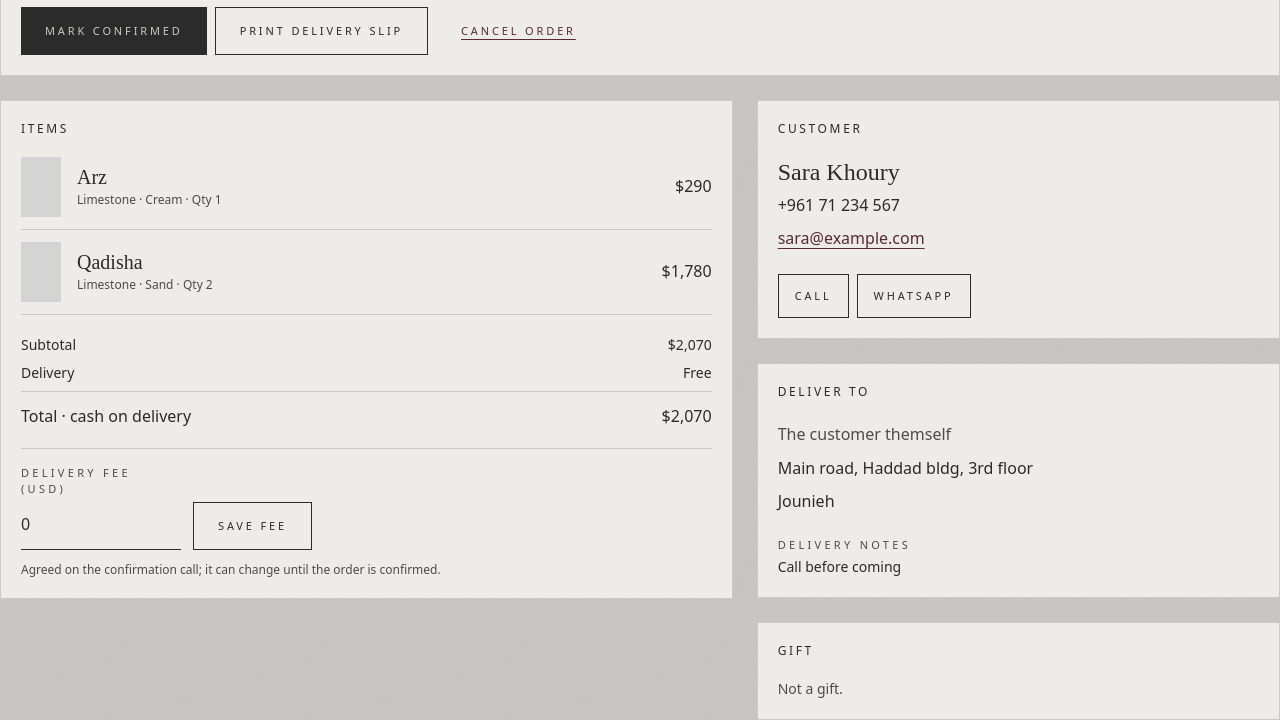
one order in the studio › shows the API's words when the fee can no longer change
(page scrolled)
Replace the text in the field labelled "Delivery fee (USD)" with "10" at (101, 528), box [21,506,181,550]
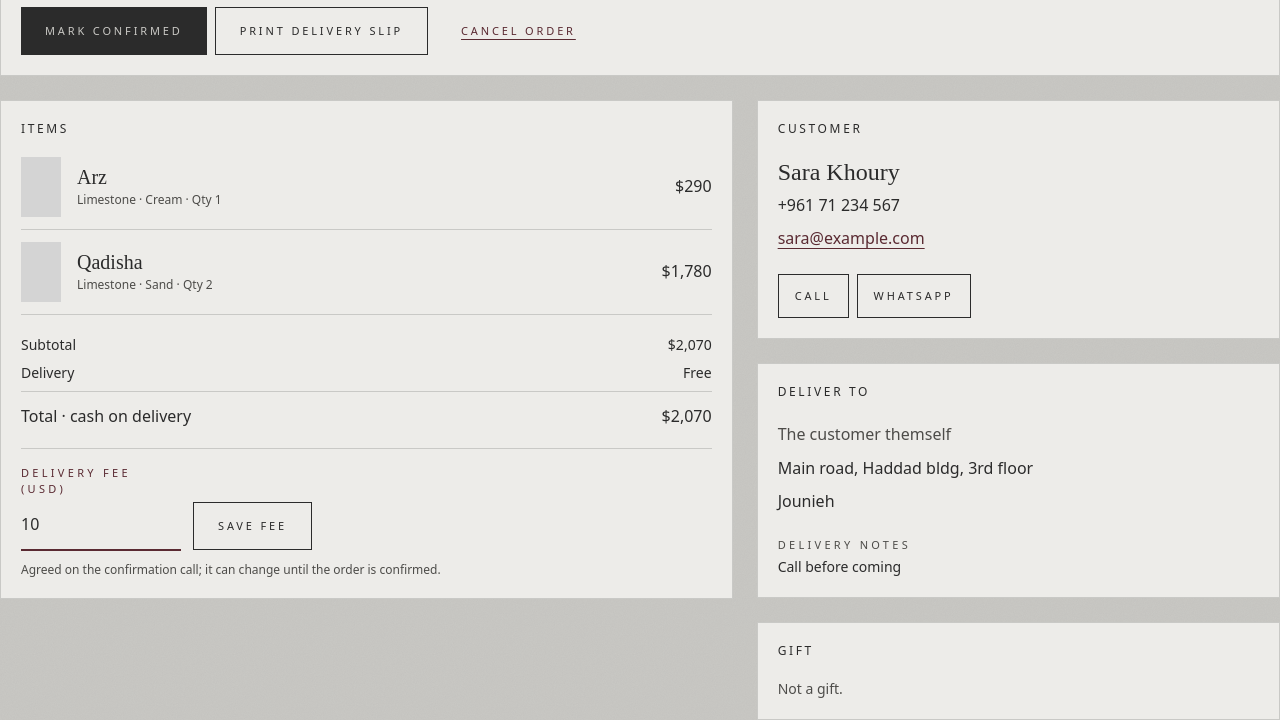
Click the button "Save fee" at (252, 526), box [193,502,312,550]
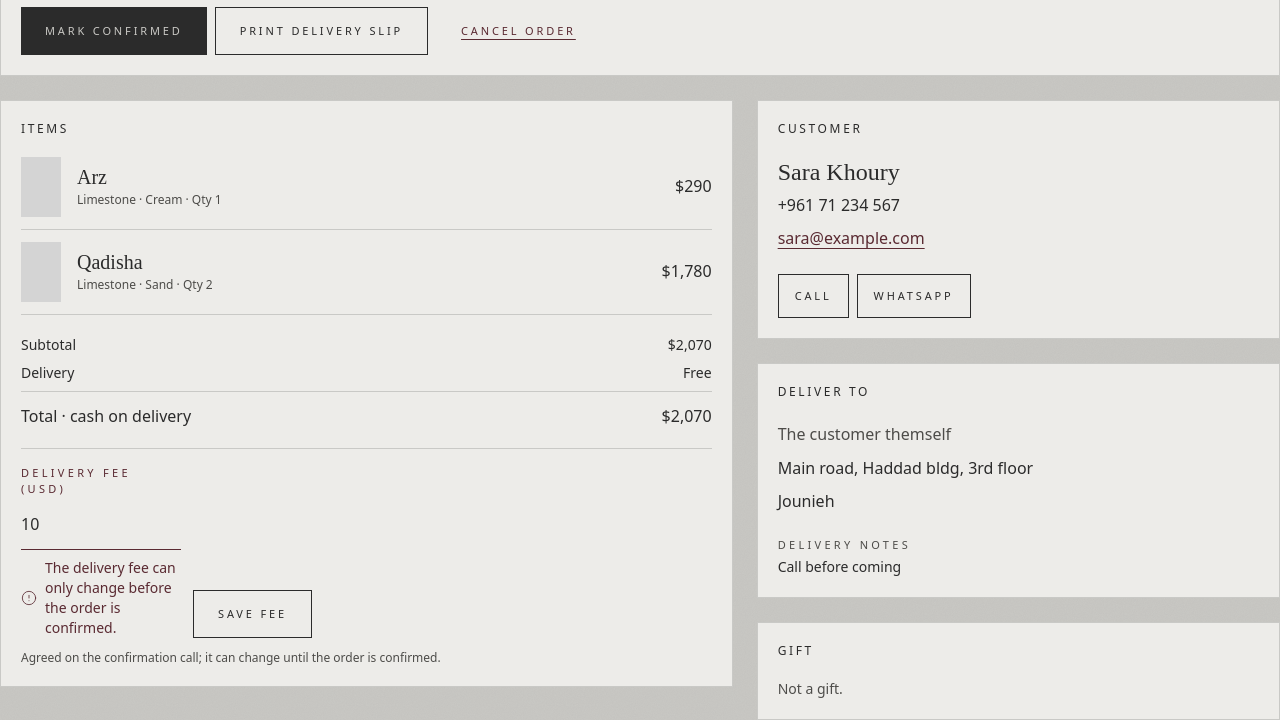
Expected: the message reads "The delivery fee can only change before the order is confirmed.", [45,558,176,637]
